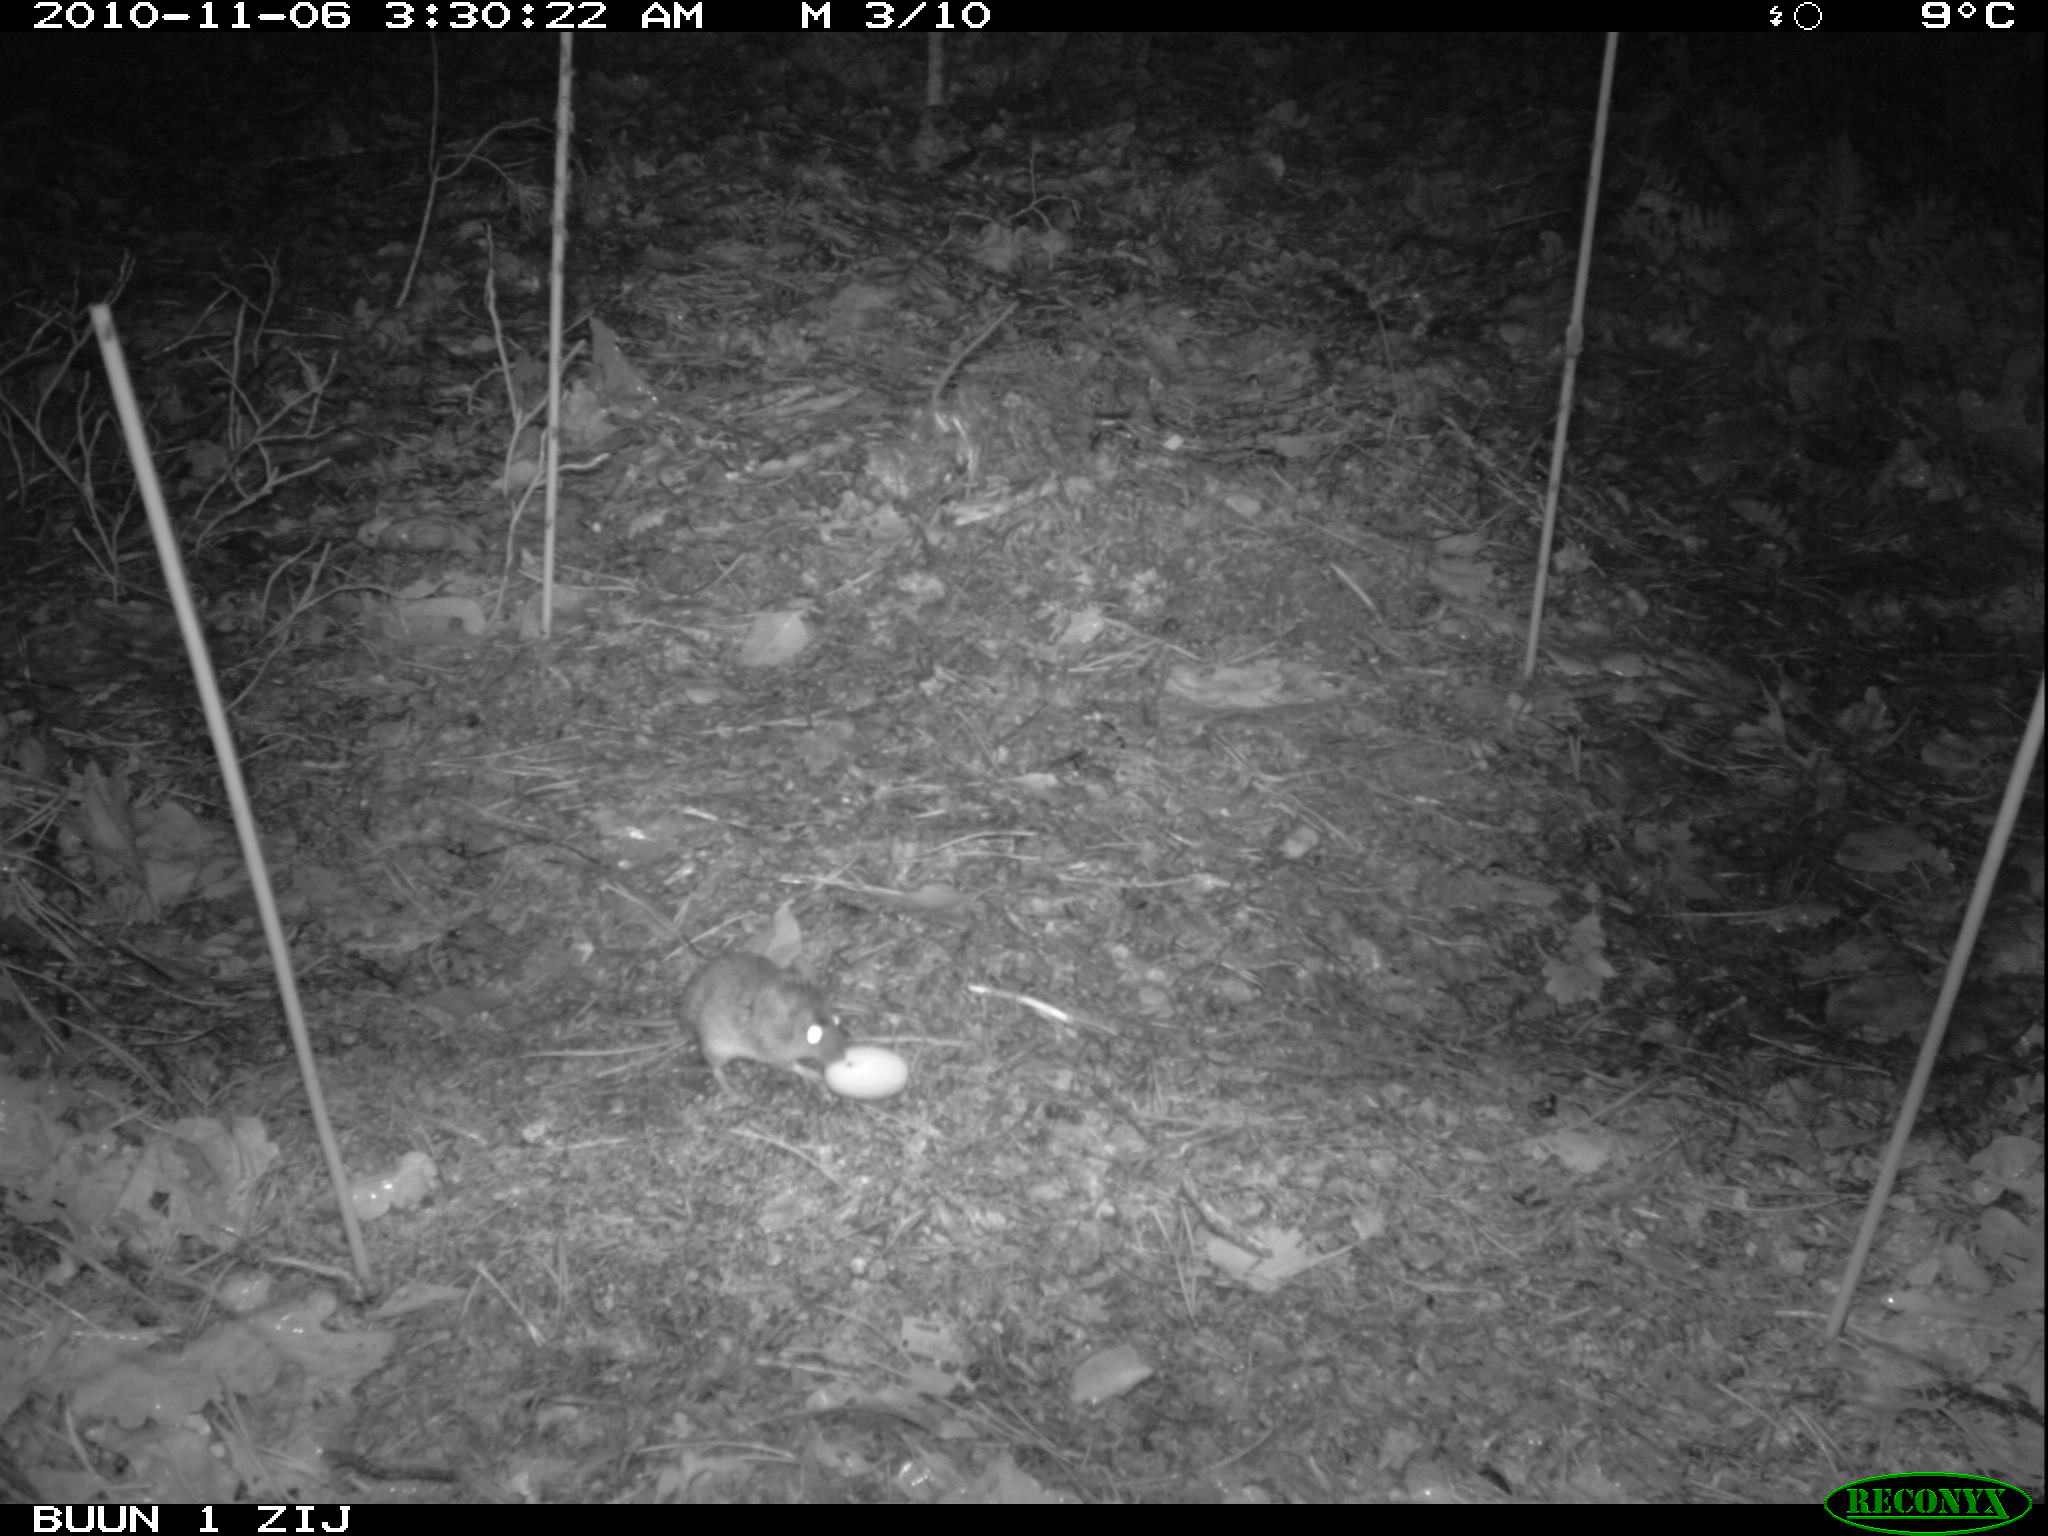Rodent: (664, 941, 851, 1100)
